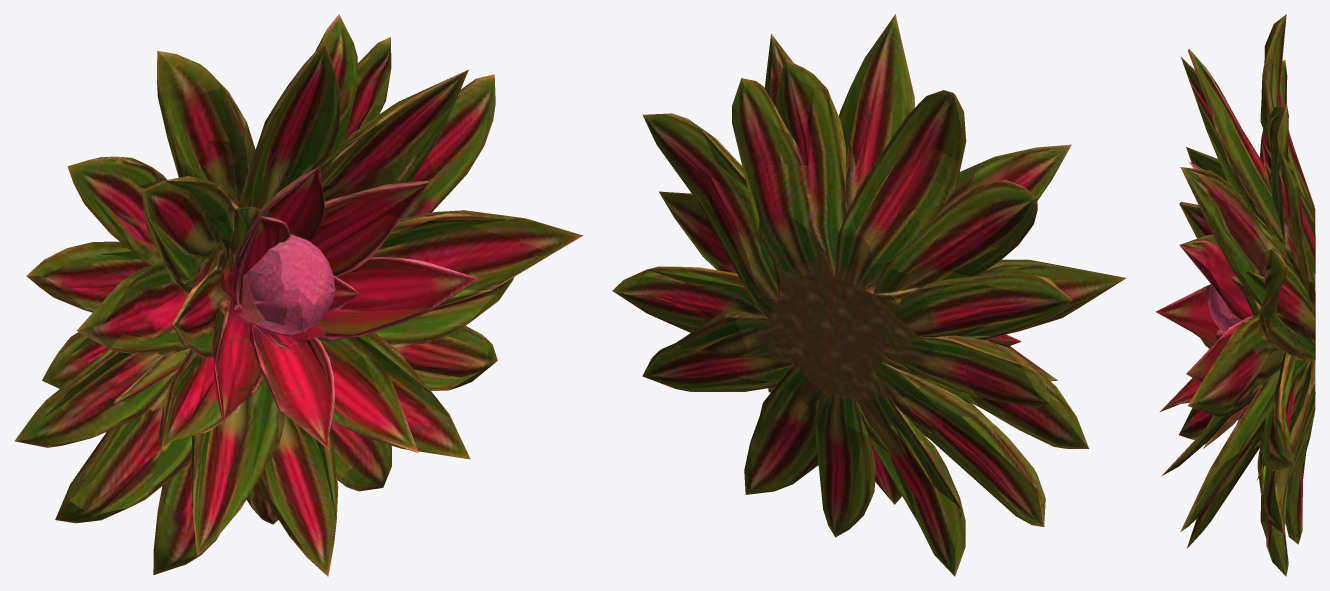
Rendered from scene_bromeliad.glb.
3 views of the same model, side by side, from view 1: azimuth 30°, elevation 25°; view 2: azimuth 150°, elevation 25°; view 3: azimuth 270°, elevation 25° (orthographic). The views are drawn at different scales.
Bounding box in the file's own units: 1.89 × 1.9 × 0.543.
Materials: 1 (1 with a texture image).
